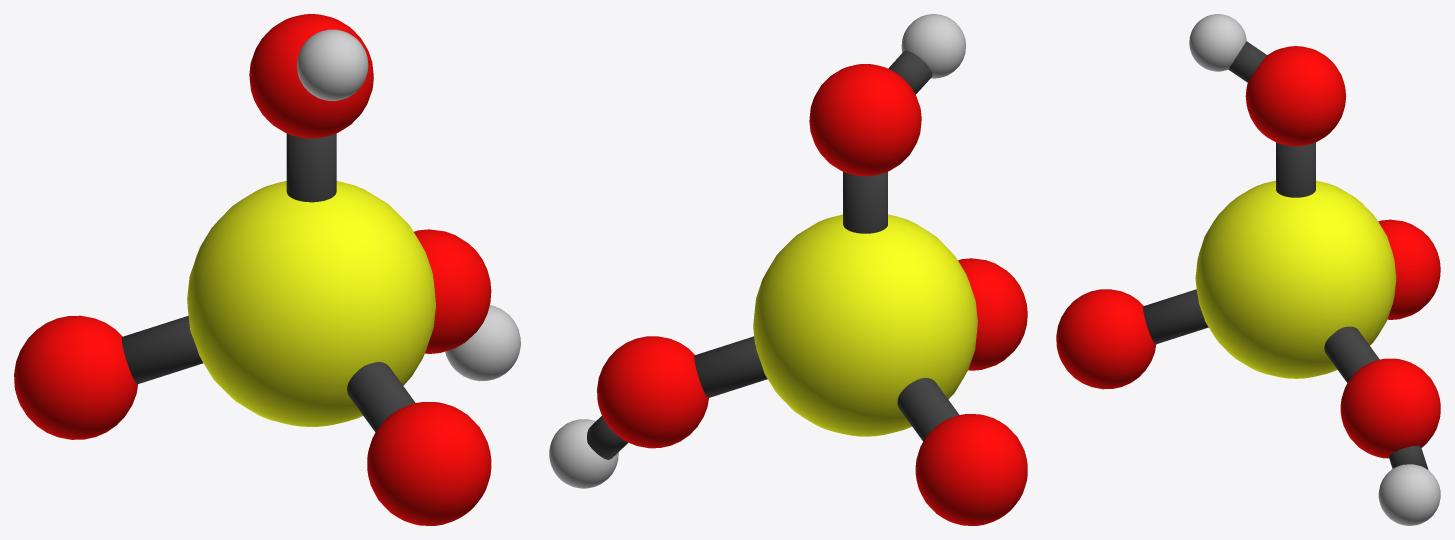
File: molecula_acdoS.obj
The picture shows the model from 3 angles, left to right: view 1: azimuth 30°, elevation 25°; view 2: azimuth 150°, elevation 25°; view 3: azimuth 270°, elevation 25°; orthographic projection. The views are drawn at different scales.
Visible parts, largest first — view 1: Sphere_Sphere.004, hydrogen.001_Sphere.001, hydrogen.003_Sphere.003, hydrogen_Sphere, hydrogen.002_Sphere.002, Sphere.001_Sphere.005, bond.003_Cylinder.003, Sphere.002_Sphere.006, bond_Cylinder, bond.001_Cylinder.001; view 2: Sphere_Sphere.004, hydrogen_Sphere, hydrogen.003_Sphere.003, hydrogen.002_Sphere.002, hydrogen.001_Sphere.001, Sphere.002_Sphere.006, bond.002_Cylinder.002, Sphere.001_Sphere.005, bond_Cylinder, bond.003_Cylinder.003, bond.004_Cylinder.006, bond.006_Cylinder.007; view 3: Sphere_Sphere.004, hydrogen_Sphere, hydrogen.002_Sphere.002, hydrogen.001_Sphere.001, hydrogen.003_Sphere.003, Sphere.002_Sphere.006, Sphere.001_Sphere.005, bond.001_Cylinder.001, bond_Cylinder, bond.002_Cylinder.002, bond.004_Cylinder.006, bond.006_Cylinder.007.
Boxes of the visible parts, x1=… form: Sphere_Sphere.004: x1=187, y1=181, x2=435, y2=426; hydrogen.001_Sphere.001: x1=367, y1=402, x2=491, y2=525; hydrogen.003_Sphere.003: x1=14, y1=315, x2=137, y2=439; hydrogen_Sphere: x1=249, y1=14, x2=373, y2=138; hydrogen.002_Sphere.002: x1=414, y1=229, x2=491, y2=353; Sphere.001_Sphere.005: x1=297, y1=29, x2=368, y2=100; bond.003_Cylinder.003: x1=122, y1=315, x2=203, y2=384; Sphere.002_Sphere.006: x1=445, y1=305, x2=520, y2=381; bond_Cylinder: x1=286, y1=133, x2=336, y2=202; bond.001_Cylinder.001: x1=347, y1=362, x2=415, y2=432; Sphere_Sphere.004: x1=753, y1=214, x2=977, y2=436; hydrogen_Sphere: x1=809, y1=64, x2=921, y2=176; hydrogen.003_Sphere.003: x1=915, y1=414, x2=1027, y2=525; hydrogen.002_Sphere.002: x1=597, y1=336, x2=708, y2=448; hydrogen.001_Sphere.001: x1=958, y1=258, x2=1027, y2=370; Sphere.002_Sphere.006: x1=549, y1=419, x2=618, y2=488; bond.002_Cylinder.002: x1=694, y1=336, x2=767, y2=397; Sphere.001_Sphere.005: x1=901, y1=14, x2=965, y2=78; bond_Cylinder: x1=843, y1=171, x2=887, y2=233; bond.003_Cylinder.003: x1=897, y1=378, x2=959, y2=441; bond.004_Cylinder.006: x1=888, y1=51, x2=932, y2=94; bond.006_Cylinder.007: x1=587, y1=416, x2=627, y2=459; Sphere_Sphere.004: x1=1195, y1=180, x2=1396, y2=378; hydrogen_Sphere: x1=1245, y1=46, x2=1346, y2=146; hydrogen.002_Sphere.002: x1=1340, y1=358, x2=1440, y2=458; hydrogen.001_Sphere.001: x1=1056, y1=289, x2=1156, y2=389; hydrogen.003_Sphere.003: x1=1378, y1=219, x2=1440, y2=319; Sphere.002_Sphere.006: x1=1378, y1=464, x2=1440, y2=525; Sphere.001_Sphere.005: x1=1189, y1=14, x2=1246, y2=71; bond.001_Cylinder.001: x1=1143, y1=289, x2=1208, y2=344; bond_Cylinder: x1=1276, y1=142, x2=1315, y2=197; bond.002_Cylinder.002: x1=1324, y1=326, x2=1379, y2=382; bond.004_Cylinder.006: x1=1228, y1=41, x2=1266, y2=82; bond.006_Cylinder.007: x1=1389, y1=445, x2=1428, y2=469.
Size of the model in its own units: 3.74 by 3.52 by 3.06.
